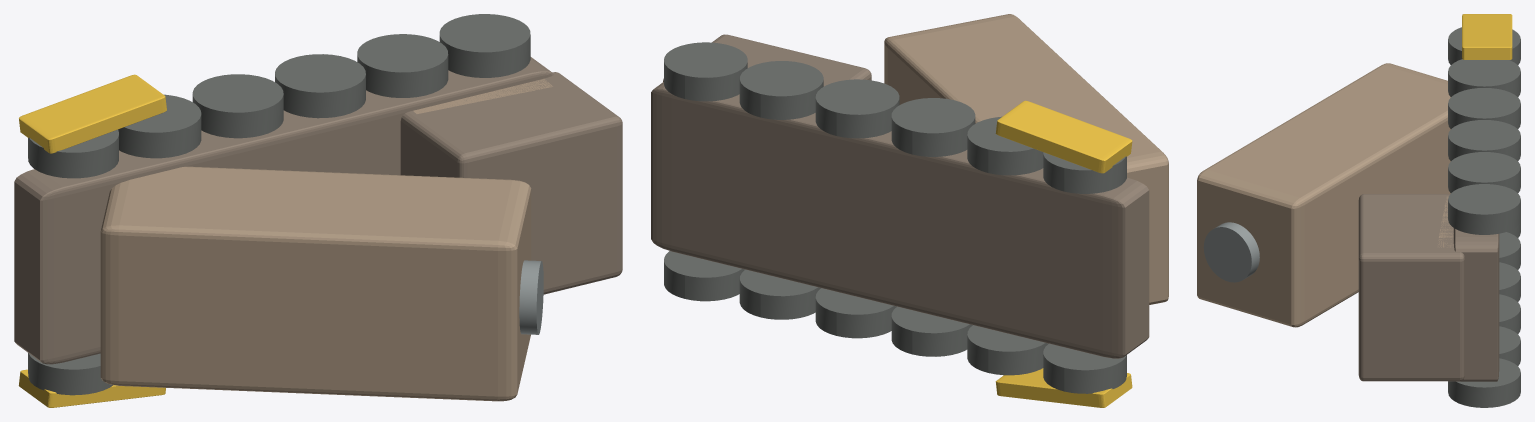
File: d-x05-dominion-strategic-lod1.glb
3 views of the same model, side by side, from view 1: azimuth 30°, elevation 25°; view 2: azimuth 150°, elevation 25°; view 3: azimuth 270°, elevation 25° (orthographic). The views are drawn at different scales.
Visible parts, largest first — view 1: strategic_canister, strategic_lower, strategic_cab, strategic_jack_1, strategic_wheel_1_2, strategic_wheel_1_5, strategic_wheel_1_4, strategic_wheel_1_3, strategic_wheel_1_1, strategic_wheel_1_0, strategic_wheel_-1_0, strategic_jack_-1 (+2 smaller); view 2: strategic_lower, strategic_canister, strategic_jack_1, strategic_wheel_1_3, strategic_wheel_1_2, strategic_wheel_1_4, strategic_wheel_1_5, strategic_wheel_-1_0, strategic_wheel_-1_3, strategic_wheel_-1_2, strategic_wheel_-1_4, strategic_wheel_-1_1 (+5 smaller); view 3: strategic_canister, strategic_cab, strategic_lower, strategic_wheel_1_5, strategic_missile, strategic_wheel_1_4, strategic_wheel_1_3, strategic_wheel_1_2, strategic_jack_1, strategic_wheel_1_1, strategic_wheel_-1_5, strategic_wheel_1_0 (+4 smaller).
Boxes of the visible parts, x1,y1,x2,y2 form: strategic_canister: [100, 166, 531, 401]; strategic_lower: [14, 57, 553, 364]; strategic_cab: [400, 72, 622, 294]; strategic_jack_1: [19, 74, 166, 153]; strategic_wheel_1_2: [192, 74, 283, 138]; strategic_wheel_1_5: [439, 14, 530, 77]; strategic_wheel_1_4: [357, 34, 448, 97]; strategic_wheel_1_3: [275, 54, 365, 118]; strategic_wheel_1_1: [118, 94, 201, 158]; strategic_wheel_1_0: [28, 129, 118, 178]; strategic_wheel_-1_0: [28, 353, 112, 395]; strategic_jack_-1: [18, 369, 165, 407]; strategic_lower: [651, 82, 1149, 358]; strategic_canister: [884, 14, 1168, 304]; strategic_jack_1: [995, 100, 1132, 173]; strategic_wheel_1_3: [815, 79, 899, 138]; strategic_wheel_1_2: [891, 98, 975, 156]; strategic_wheel_1_4: [739, 61, 823, 119]; strategic_wheel_1_5: [664, 42, 747, 101]; strategic_wheel_-1_0: [1043, 343, 1126, 393]; strategic_wheel_-1_3: [815, 288, 896, 338]; strategic_wheel_-1_2: [891, 306, 972, 356]; strategic_wheel_-1_4: [739, 269, 820, 319]; strategic_wheel_-1_1: [967, 325, 1048, 375]; strategic_canister: [1197, 63, 1450, 327]; strategic_cab: [1358, 194, 1464, 381]; strategic_lower: [1453, 228, 1499, 381]; strategic_wheel_1_5: [1448, 184, 1520, 234]; strategic_missile: [1203, 222, 1259, 282]; strategic_wheel_1_4: [1448, 152, 1520, 192]; strategic_wheel_1_3: [1448, 120, 1520, 160]; strategic_wheel_1_2: [1448, 88, 1520, 128]; strategic_jack_1: [1462, 14, 1512, 59]; strategic_wheel_1_1: [1448, 59, 1520, 96]; strategic_wheel_-1_5: [1448, 358, 1520, 407]; strategic_wheel_1_0: [1448, 27, 1520, 64].
Size of what is drawn, in the model's own units: 11.94 by 6.48 by 8.
